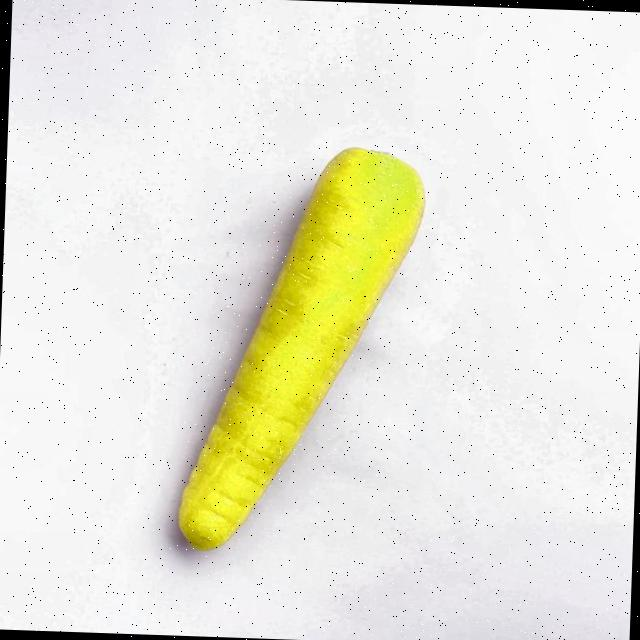carrot: (178, 148, 422, 549)
